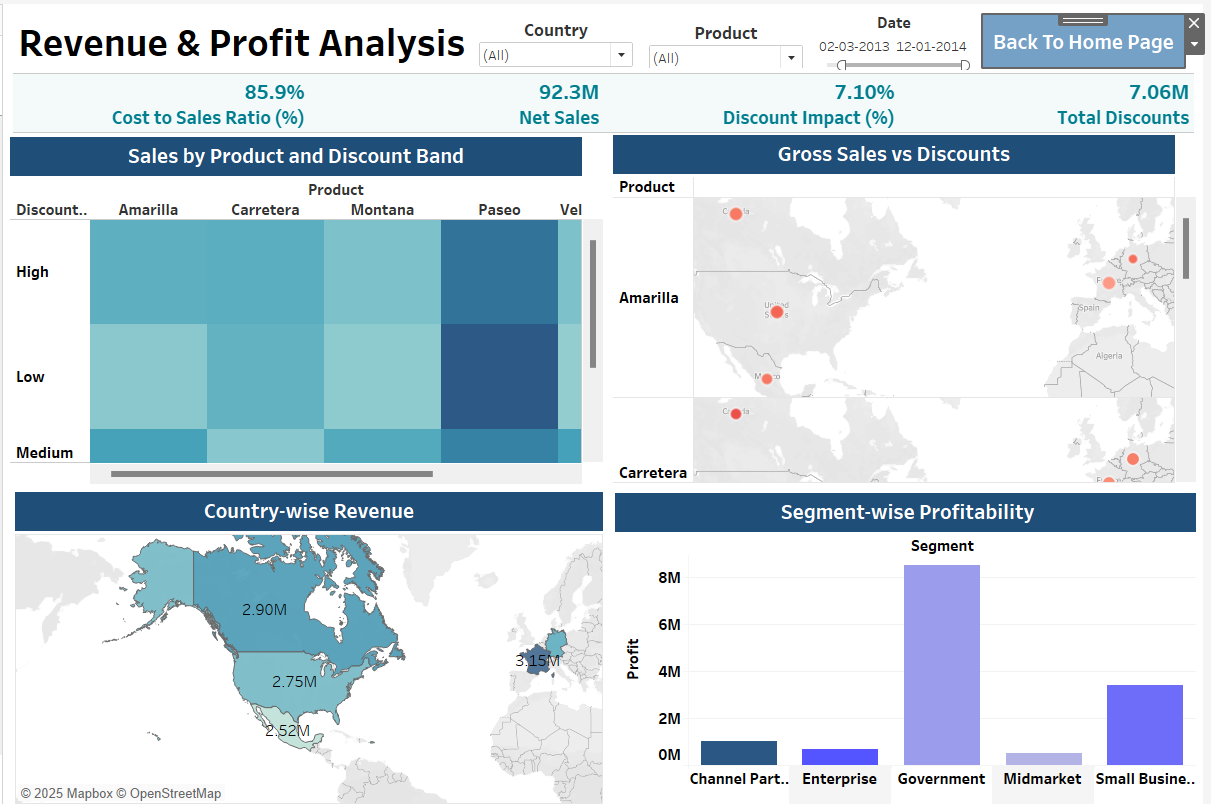

The dashboard page shown, as its layout file describes it:
{"tool":"tableau","page":{"name":"Dashboard 2","canvas":[1200,801],"ordinal":1},"visuals":[{"type":"title","box":[8,8,1184,58]},{"type":"filter","title":" Segment-wise Profitability","param":"[federated.1i1my5z1pja7kj15s460o01lk9o7].[none:Date:qk]","box":[811,8,160,58]},{"type":"dashboard-object","box":[980,11,201,52]},{"type":"filter","title":"Sales by Product and Discount Band","param":"[federated.1i1my5z1pja7kj15s460o01lk9o7].[none:Country:nk]","box":[473,14,160,50]},{"type":"filter","title":" Segment-wise Profitability","param":"[federated.1i1my5z1pja7kj15s460o01lk9o7].[none:Product:nk]","box":[643,17,160,47]},{"type":"worksheet","title":"KPI's2","mark":"Automatic","box":[10,69,1184,62]},{"type":"worksheet","title":"Gross Sales vs Discounts","mark":"Automatic","rows":["Product"],"box":[610,131,583,348]},{"type":"worksheet","title":"Sales by Product and Discount Band","mark":"Automatic","rows":["Discount Band"],"cols":["Product"],"box":[7,133,593,347]},{"type":"worksheet","title":"Country-wise Revenue","mark":"Automatic","box":[12,488,588,312]},{"type":"worksheet","title":" Segment-wise Profitability","mark":"Automatic","rows":["Profit"],"cols":["Segment"],"box":[612,489,581,312]}]}

Visuals, with their boxes in screenshot pixels (x1, y1, x2, y2), scaled from the page's 1200x801 canvas onto the 1211x804 screenshot:
title: detection(8, 8, 1203, 66)
" Segment-wise Profitability" filter: detection(818, 8, 980, 66)
dashboard-object: detection(989, 11, 1192, 63)
"Sales by Product and Discount Band" filter: detection(477, 14, 639, 64)
" Segment-wise Profitability" filter: detection(649, 17, 810, 64)
"KPI's2" worksheet: detection(10, 69, 1205, 131)
"Gross Sales vs Discounts" worksheet: detection(616, 131, 1204, 481)
"Sales by Product and Discount Band" worksheet: detection(7, 133, 606, 482)
"Country-wise Revenue" worksheet: detection(12, 490, 606, 803)
" Segment-wise Profitability" worksheet: detection(618, 491, 1204, 803)
